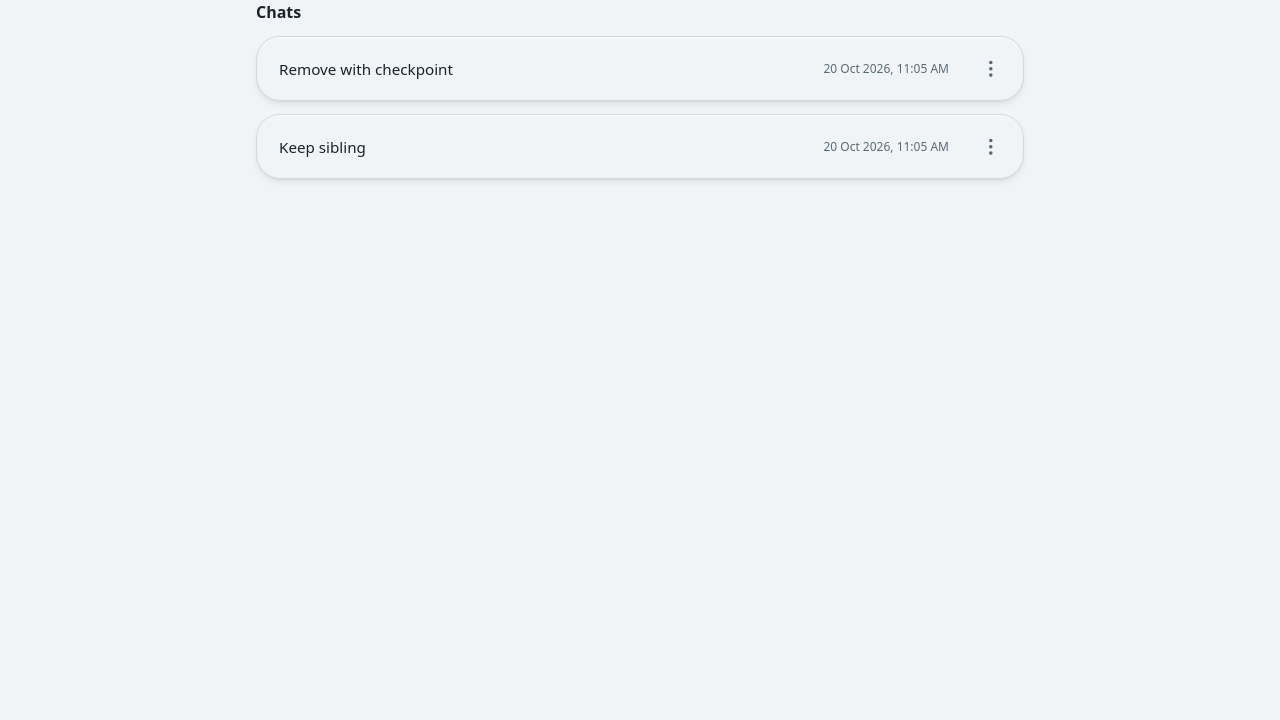
Test case: PreviousChats › deletes the local transcript and clears the server checkpoint in the background
This screenshot has width=1280, height=720.
Click the button named "Conversation actions for Remove with checkpoint".
click(991, 69)  # box x1=971 y1=49 x2=1011 y2=89
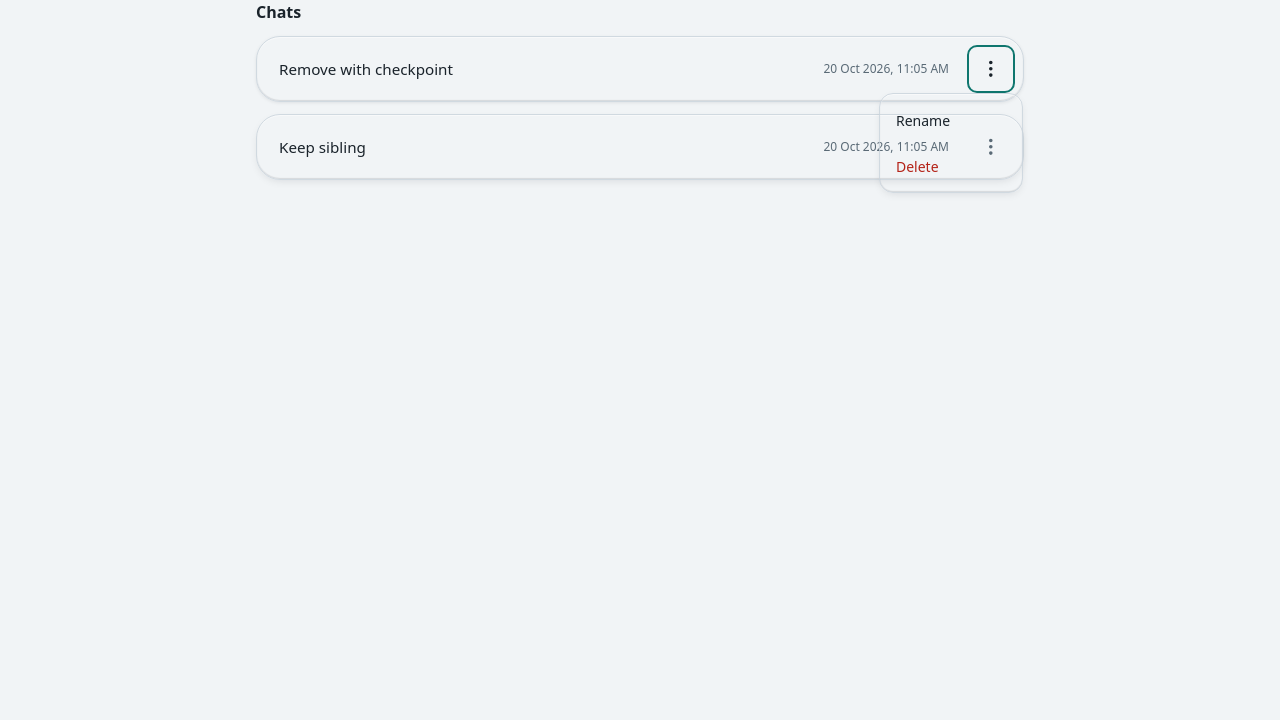
Click the menu item "Delete".
click(951, 166)  # box x1=884 y1=144 x2=1018 y2=188
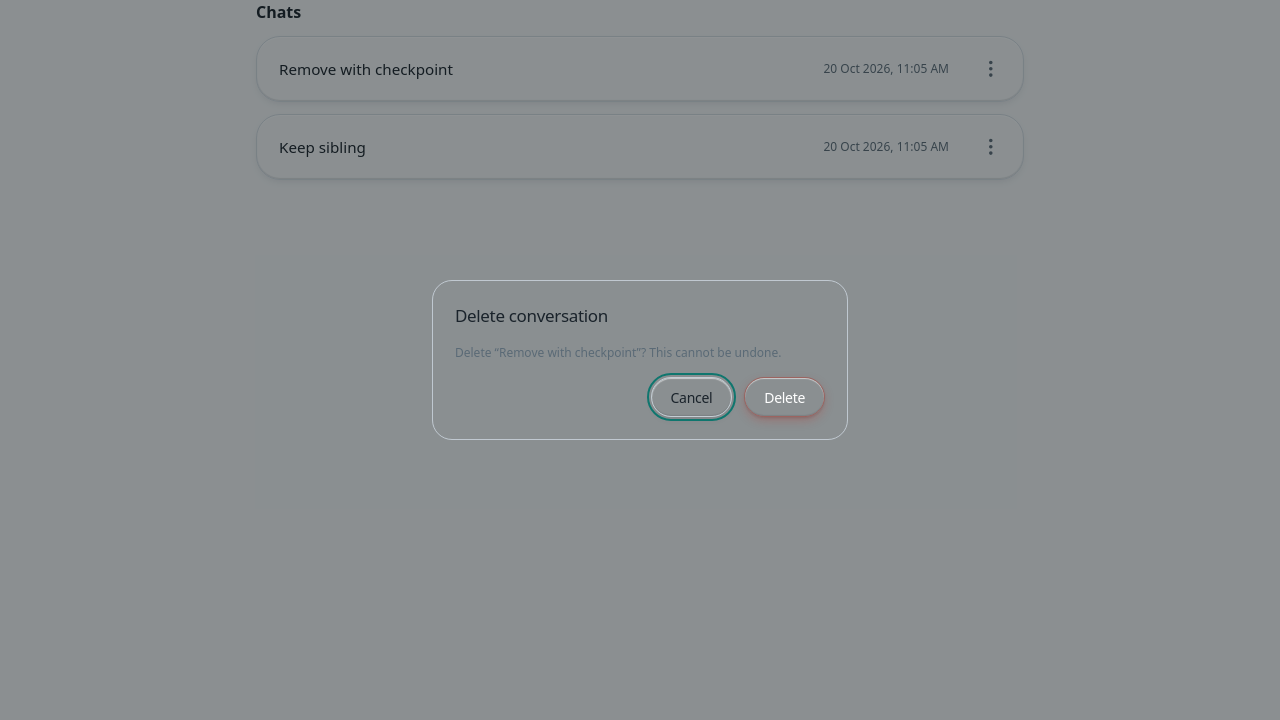
Click the button "Delete".
click(785, 397)  # box x1=744 y1=377 x2=825 y2=417
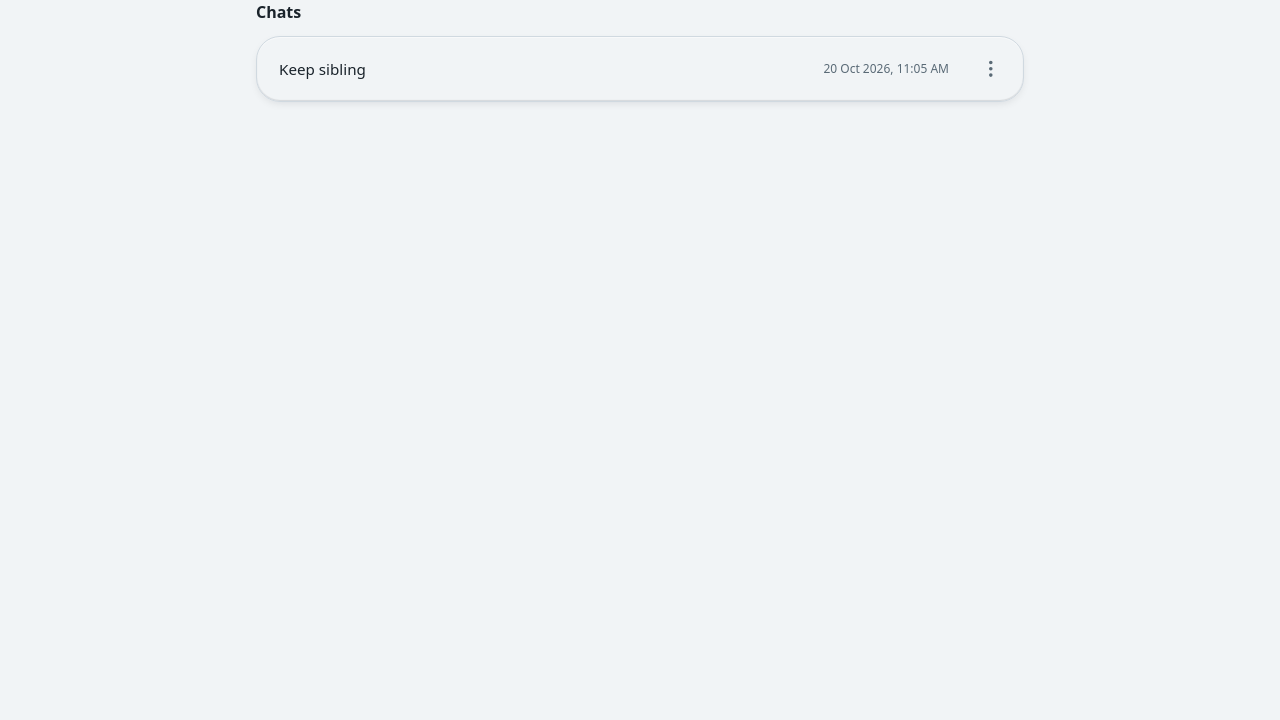
Check: the dialog is gone
